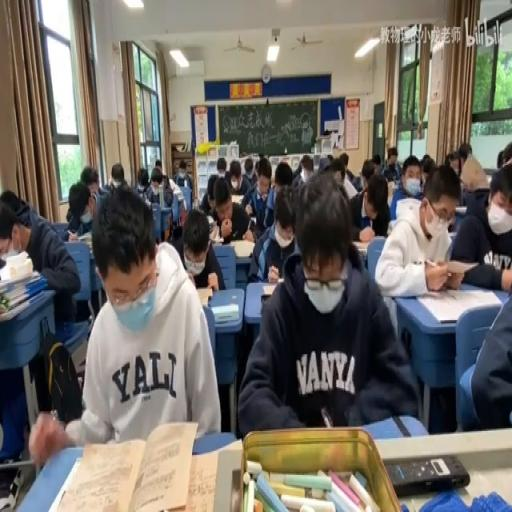calculator: (43, 420, 201, 509), (414, 286, 499, 323), (178, 450, 226, 509), (54, 320, 88, 356), (440, 258, 476, 274), (210, 302, 238, 322), (396, 196, 418, 219), (230, 238, 256, 256), (195, 286, 214, 307), (78, 230, 94, 250), (2, 246, 22, 259), (353, 240, 369, 252), (209, 223, 219, 242), (229, 193, 244, 205), (386, 181, 394, 202), (174, 188, 184, 200), (206, 213, 215, 226), (454, 205, 468, 213)
paper: (238, 172, 416, 435), (0, 185, 82, 461), (452, 158, 512, 289), (168, 202, 222, 289), (347, 166, 389, 238), (262, 156, 298, 230), (66, 178, 98, 236), (0, 190, 31, 230), (198, 172, 220, 215), (106, 161, 129, 196), (237, 155, 256, 195), (292, 152, 314, 186), (381, 145, 400, 181), (173, 158, 192, 190), (136, 166, 152, 198), (497, 141, 512, 169), (421, 155, 435, 183), (160, 179, 173, 208), (342, 174, 356, 199), (444, 151, 458, 175), (96, 189, 109, 213), (256, 162, 270, 184), (458, 142, 471, 164), (216, 156, 226, 180), (278, 154, 290, 174), (316, 154, 330, 170), (275, 176, 288, 192), (338, 152, 348, 171), (151, 174, 162, 189), (88, 179, 98, 195), (372, 154, 381, 165), (253, 161, 259, 176), (326, 152, 333, 161), (154, 158, 160, 168)
person: (384, 452, 470, 495), (260, 292, 272, 302), (249, 215, 256, 226)
